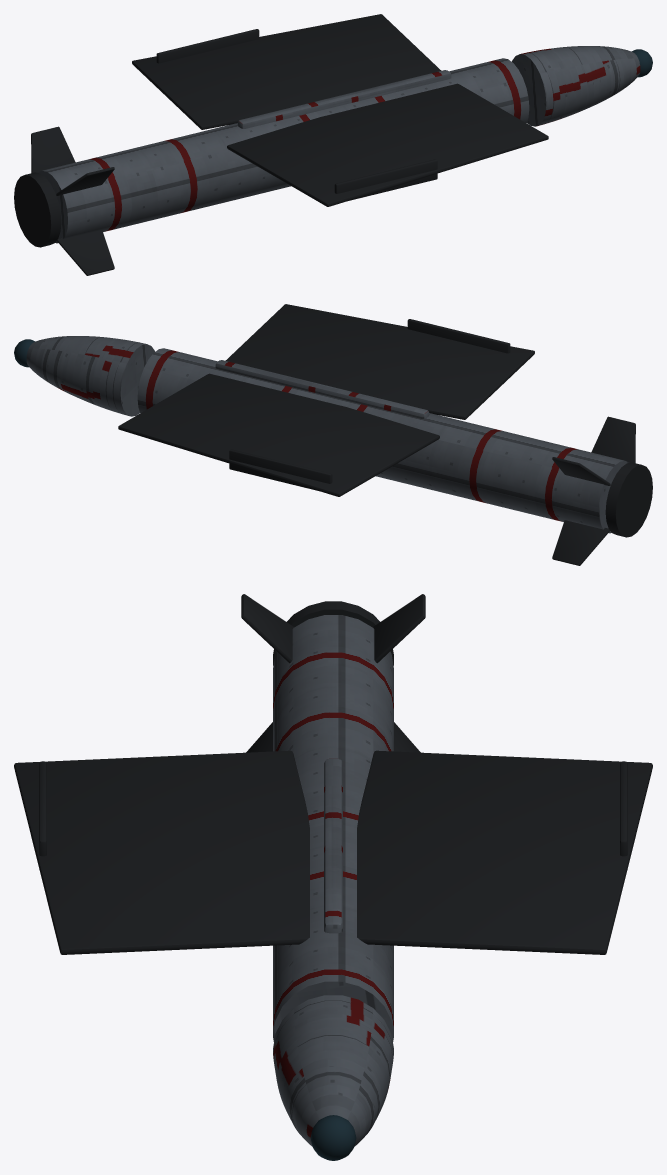
Rendered from mun_sdb.glb.
The picture shows the model from 3 angles, top to bottom: view 1: azimuth 30°, elevation 25°; view 2: azimuth 150°, elevation 25°; view 3: azimuth 270°, elevation 25°; orthographic projection. The views are drawn at different scales.
Parts seen in each view (by area): view 1: mun_sdb; view 2: mun_sdb; view 3: mun_sdb.
Part boxes in pixels (left/top/right/bottom): mun_sdb: left=14, top=14, right=652, bottom=275; mun_sdb: left=14, top=304, right=652, bottom=565; mun_sdb: left=14, top=594, right=652, bottom=1160.
Bounding box in the file's own units: 1.82 × 0.2891 × 1.
3 materials, 1 textured.
